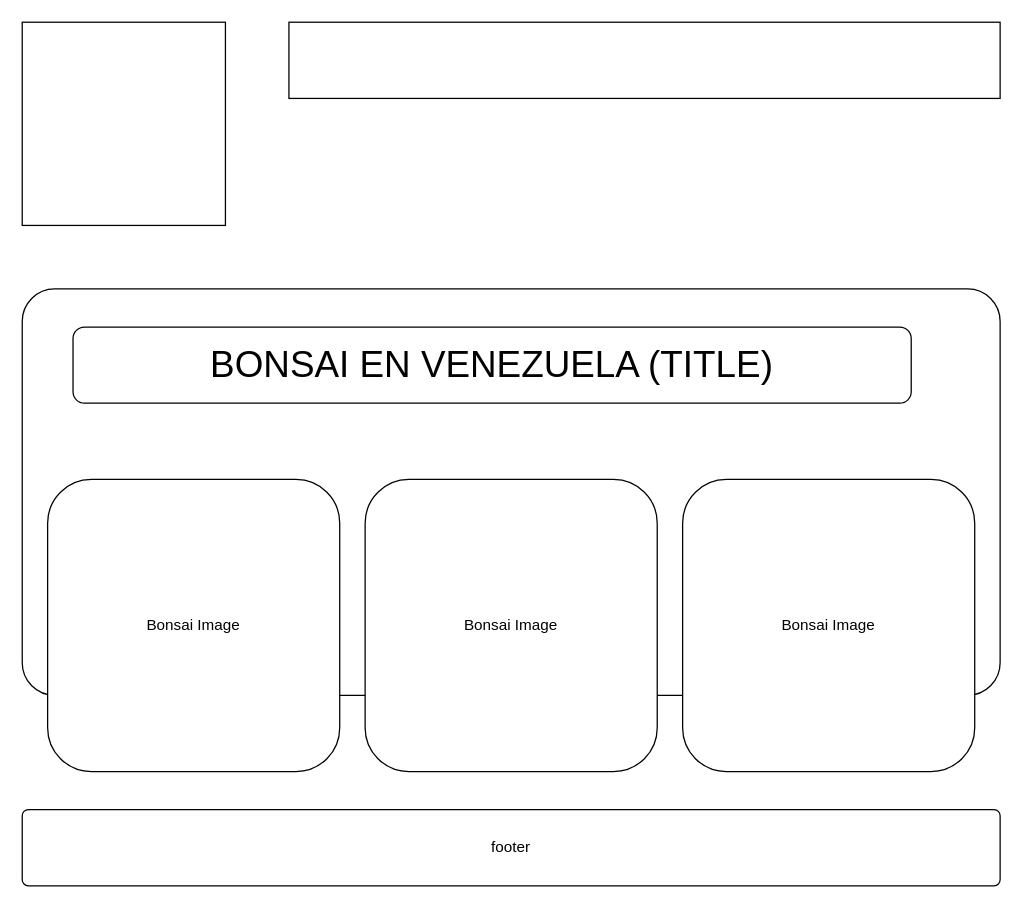
Some shapes in this 1022 by 908 pixel diagram are drawn without their labels. The box of each missing label's shape, as (x1, y1, x2, y2) in pixels:
HOME MASTERS SOCIETYS CONTACT US: (288, 21, 1000, 98)
LOGO: (21, 21, 225, 225)
